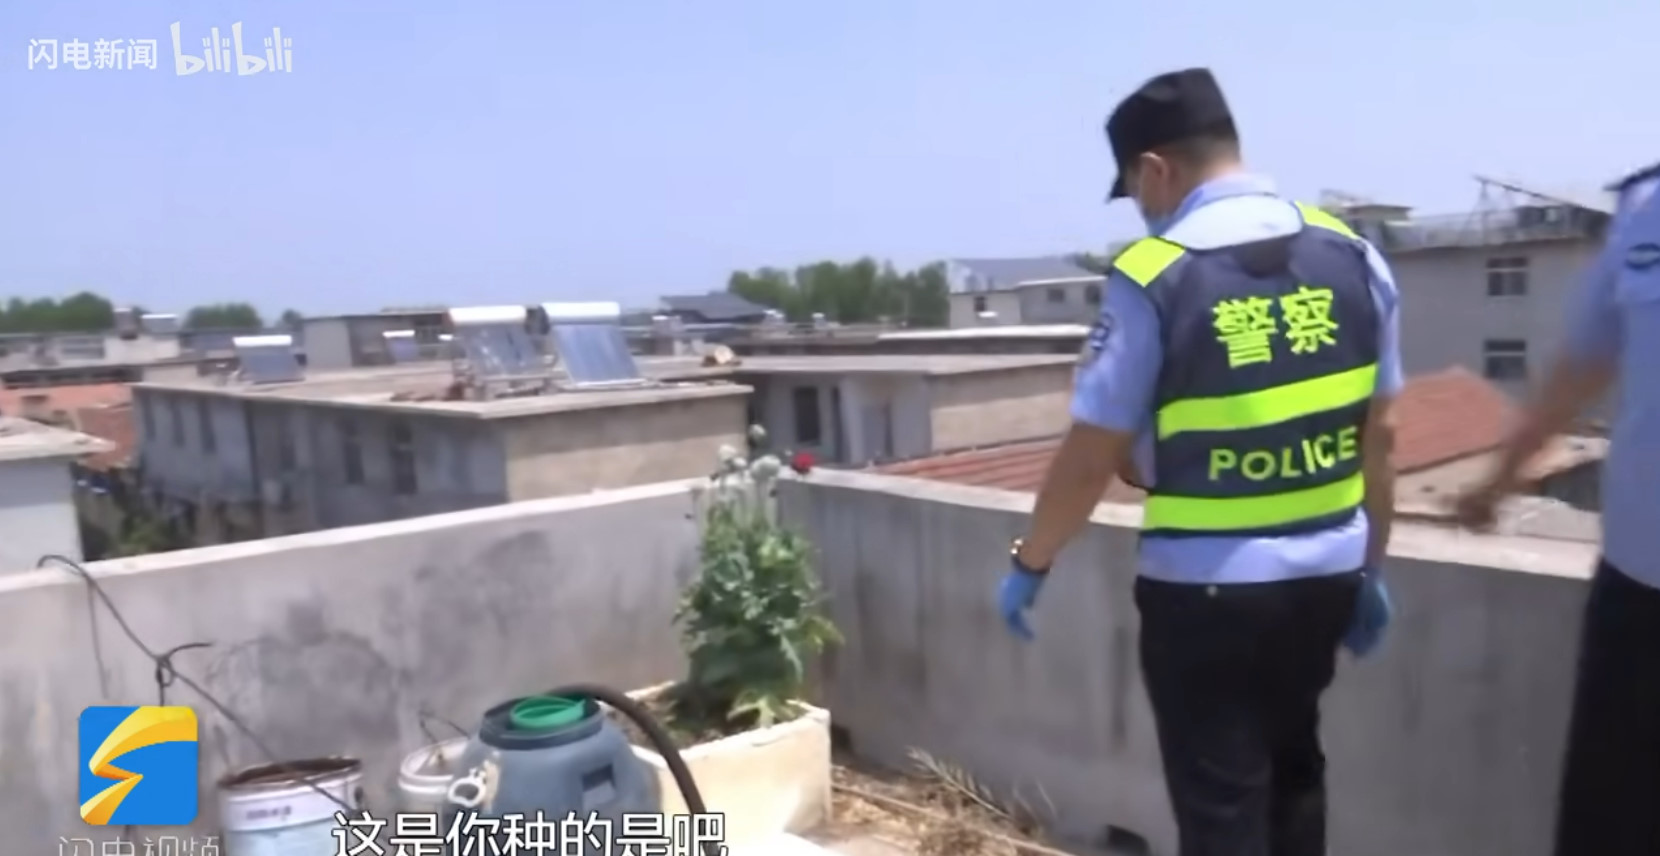Poppy: (683, 416, 843, 698)
